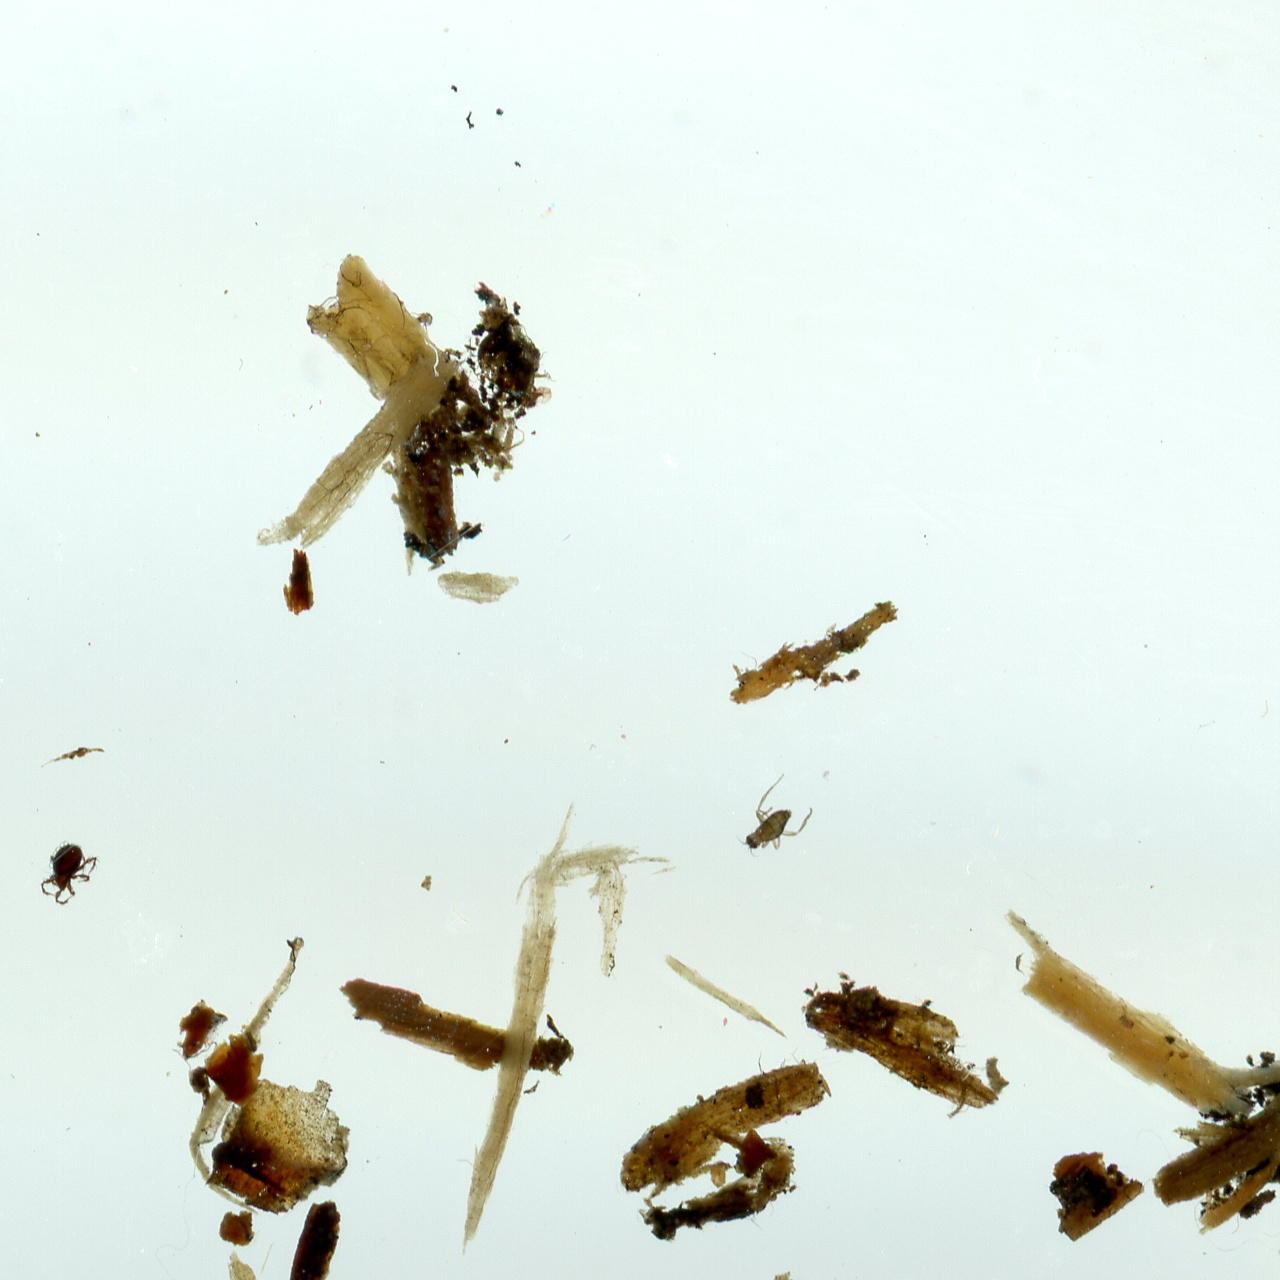arthropod: (721, 765, 829, 876), (35, 837, 105, 908), (1261, 1171, 1280, 1273)
